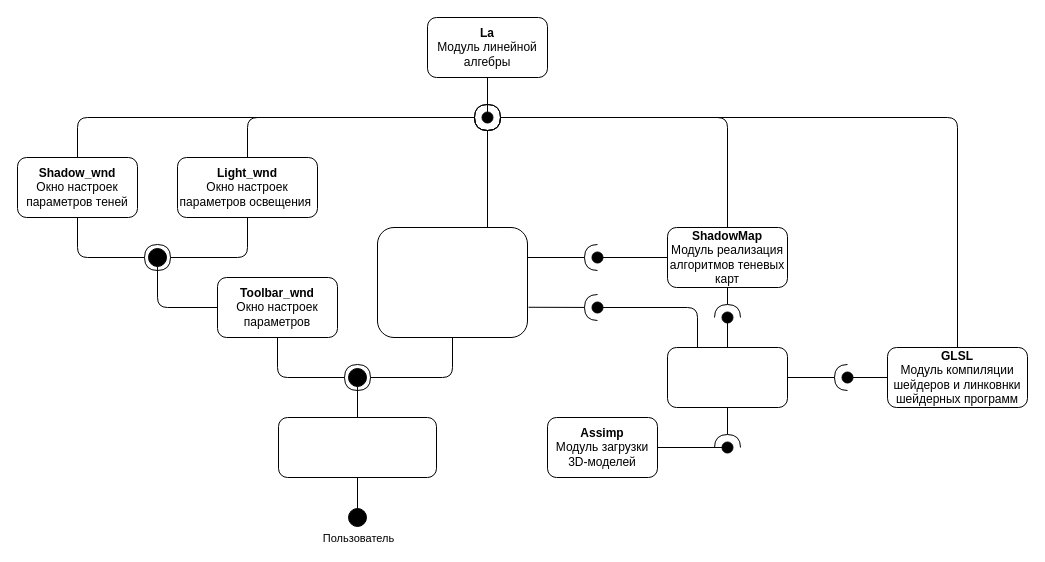
This 1045x562 diagram has some shape labels left out. Each missing label, with the centre of its shape:
OpenGL Графическое API: (x=727, y=377)
Render_wnd Окно рисования: (x=452, y=282)
WinApi Графический интерфейс управления приложением: (x=357, y=447)
